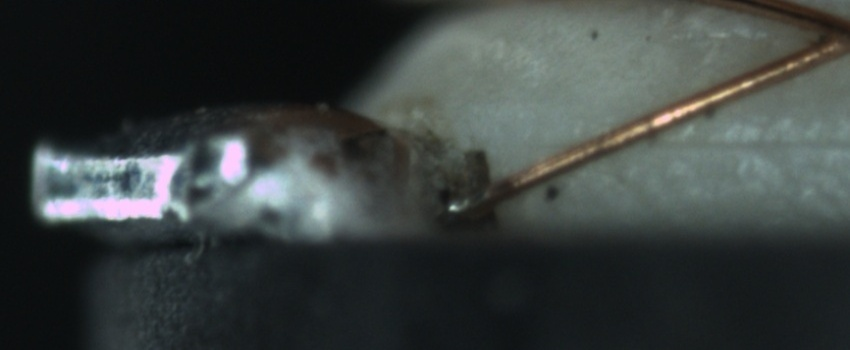CL: (796, 4, 850, 63)
DL: (564, 112, 850, 172)
